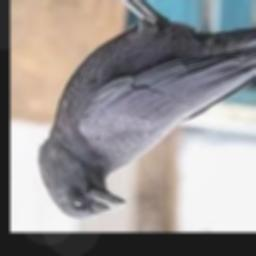Crow: (37, 0, 256, 218)
